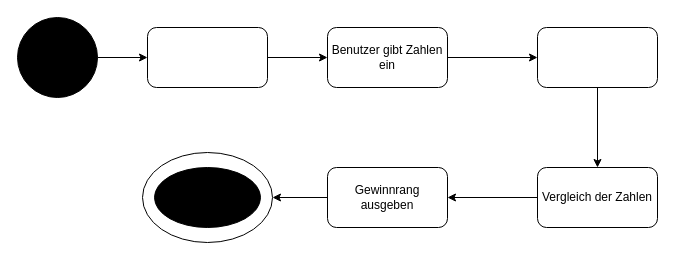
Image size: 675x260. Some labels were removed from this diagram. Each missing label, with the box of its shape:
Zufallszahlen generieren: (146, 26, 268, 88)
Überprüfung auf valide Eingabe: (536, 26, 658, 88)
